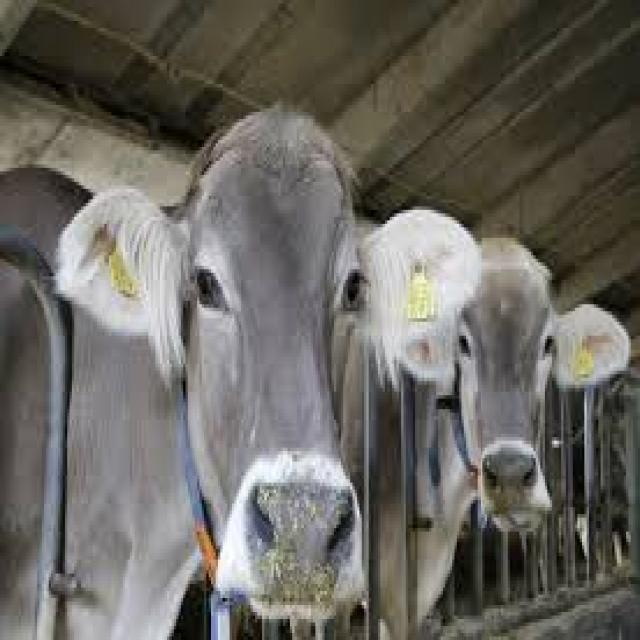cowFace: (47, 63, 476, 640), (390, 154, 630, 601)
